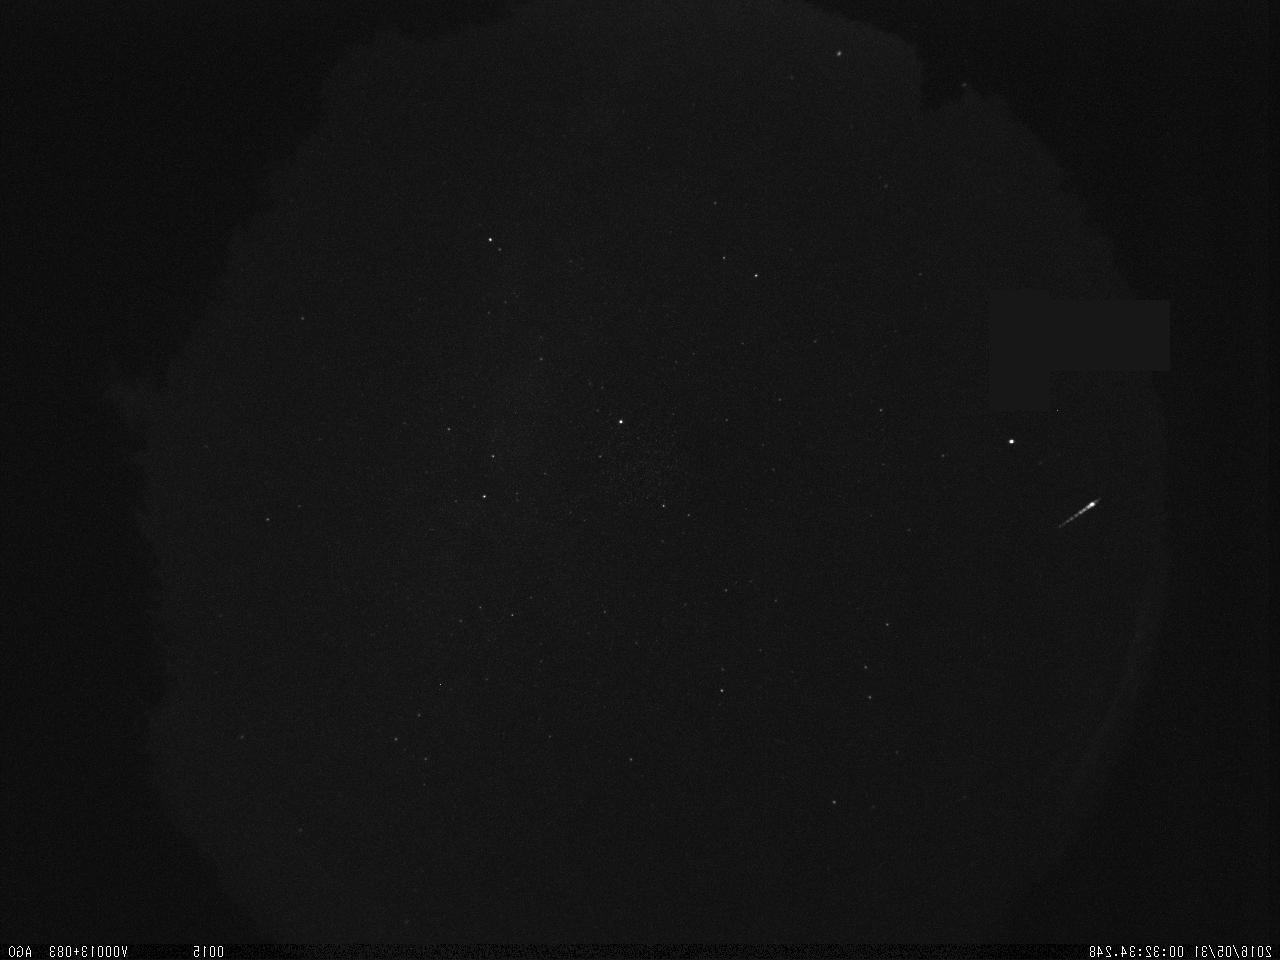meteor: (1040, 486, 1114, 539)
